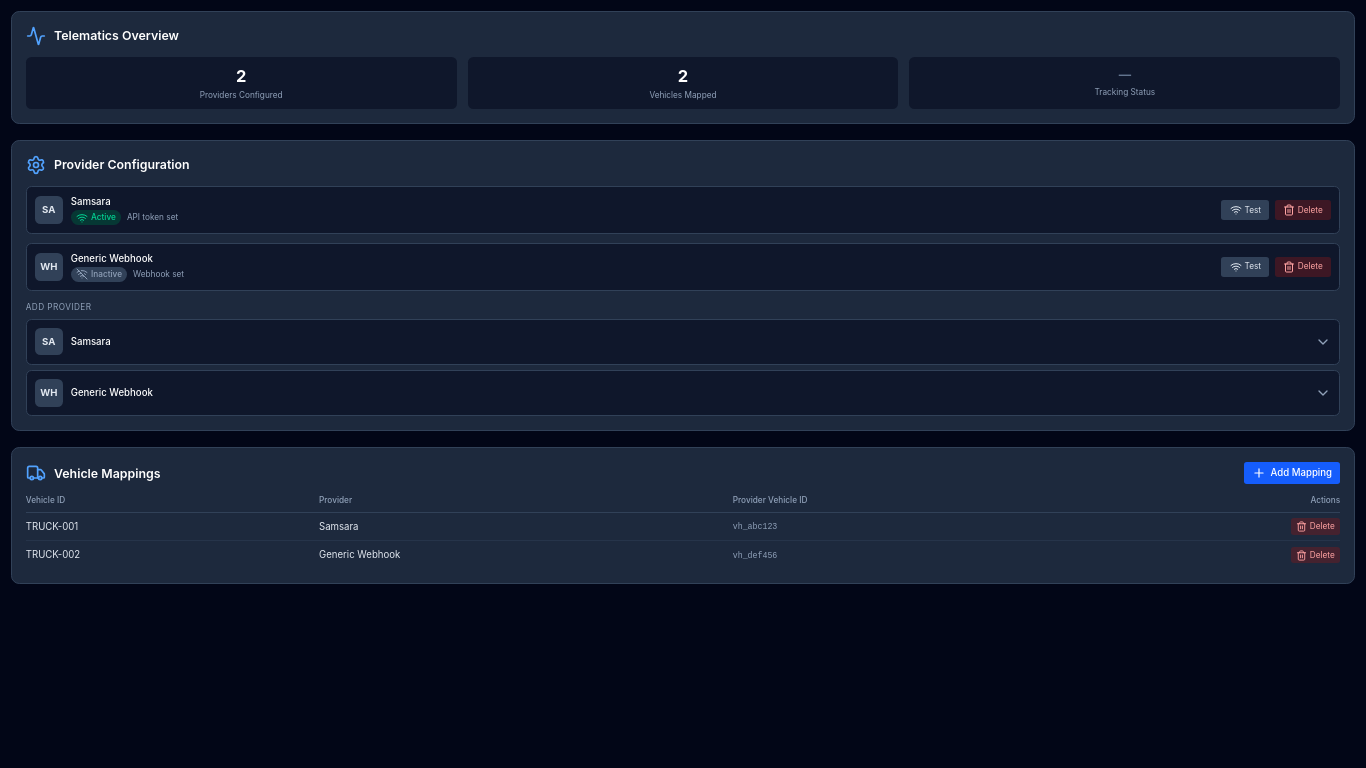
TelematicsSetup › connection test results (R-TELEM-05) › shows green Connected indicator after successful test
Click the button with test id "test-btn-cfg-1" at coordinates (1245, 210), box [1222,200,1269,220]
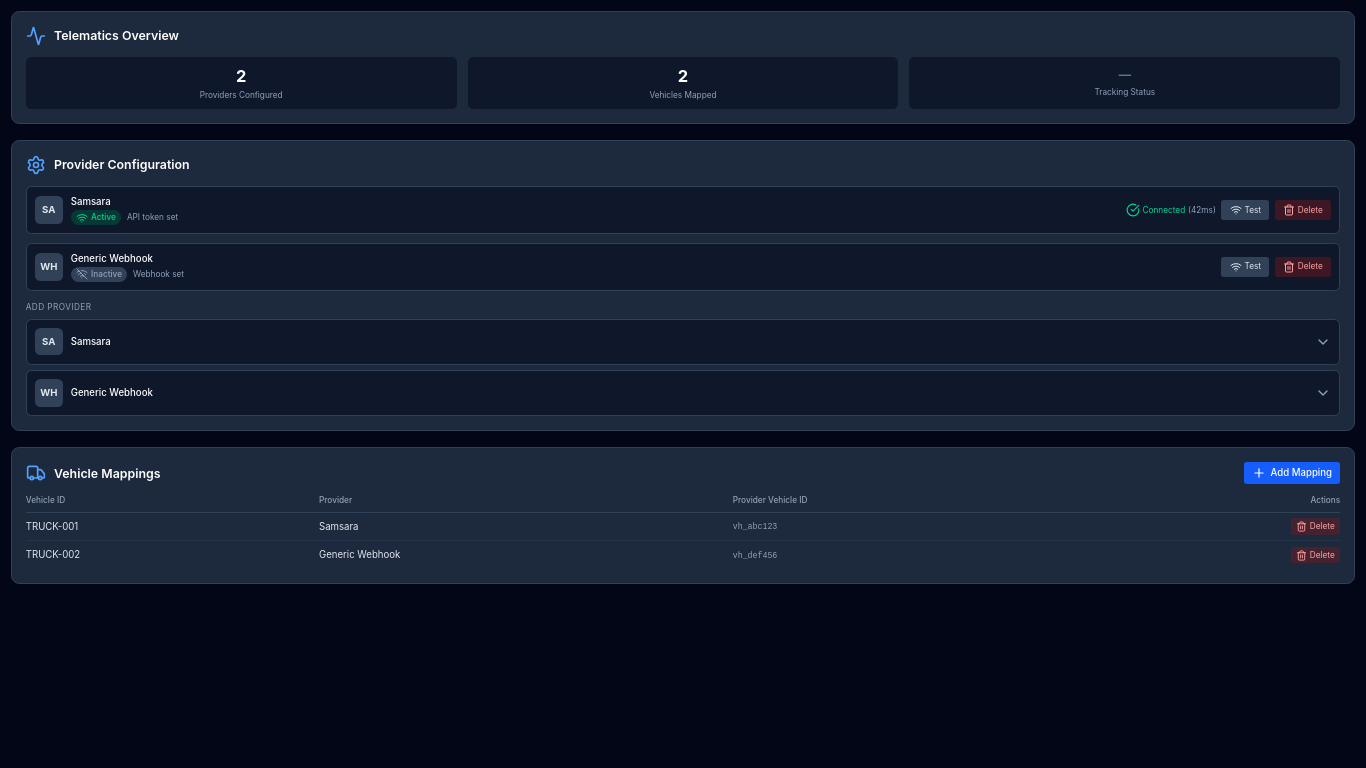
Result: the text "Connected" is shown at [1142,205,1185,215]
